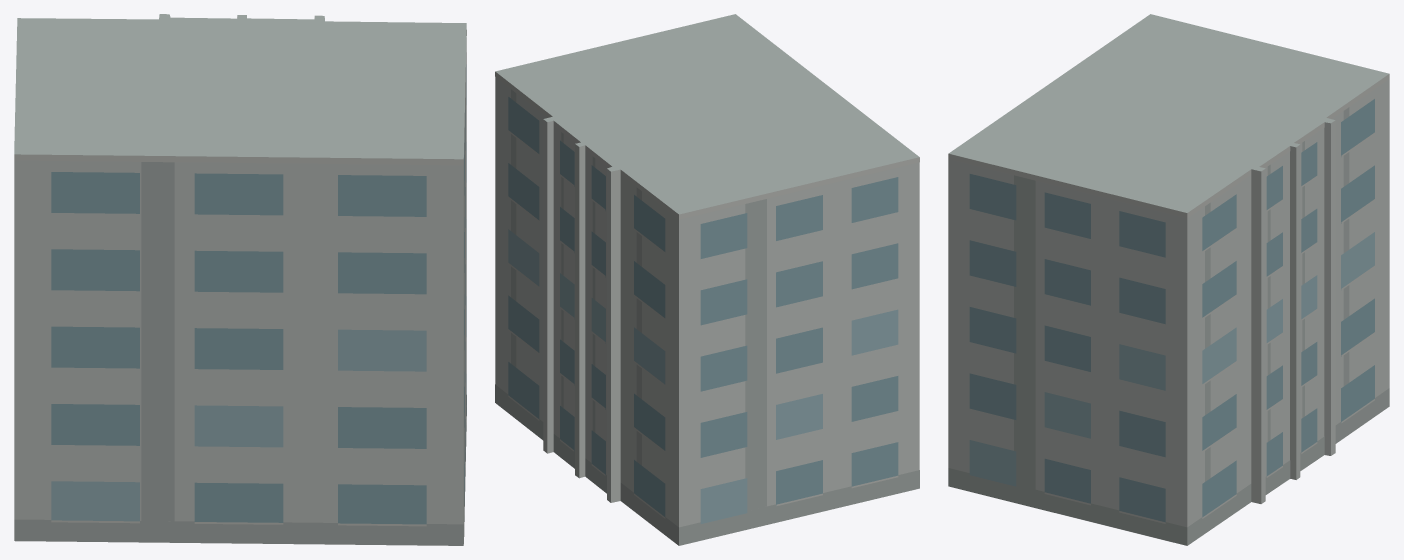
Rendered from survey-upis-32943256.glb.
3 views of the same model, side by side, from view 1: azimuth 30°, elevation 25°; view 2: azimuth 150°, elevation 25°; view 3: azimuth 270°, elevation 25° (orthographic). The views are drawn at different scales.
Visible parts, largest first — view 1: survey-upis-32943256.tmp; view 2: survey-upis-32943256.tmp; view 3: survey-upis-32943256.tmp.
Part boxes in pixels (box(x1,y1,x2,y2)): survey-upis-32943256.tmp: box(14, 14, 466, 545); survey-upis-32943256.tmp: box(495, 14, 919, 545); survey-upis-32943256.tmp: box(948, 14, 1389, 545).
Size of the model in its own units: 19.64 by 15.3 by 18.39.
